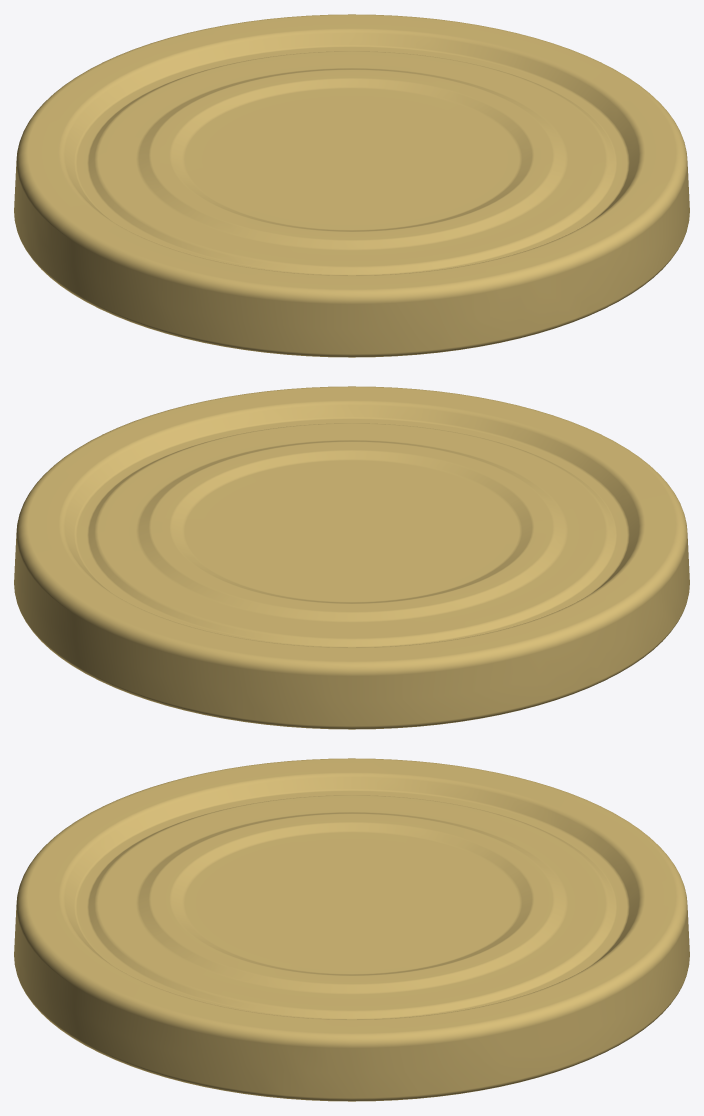
File: lid-sko.glb
3 renders of one model, top to bottom at view 1: azimuth 30°, elevation 25°; view 2: azimuth 150°, elevation 25°; view 3: azimuth 270°, elevation 25°, orthographic.
Visible parts, largest first — view 1: SKO_I82_Lid; view 2: SKO_I82_Lid; view 3: SKO_I82_Lid.
Boxes of the visible parts, bbox=[...] form: SKO_I82_Lid: bbox=[14, 14, 689, 357]; SKO_I82_Lid: bbox=[14, 386, 689, 729]; SKO_I82_Lid: bbox=[14, 758, 689, 1101].
Size of the model in its own units: 0.082 by 0.00861 by 0.082.
